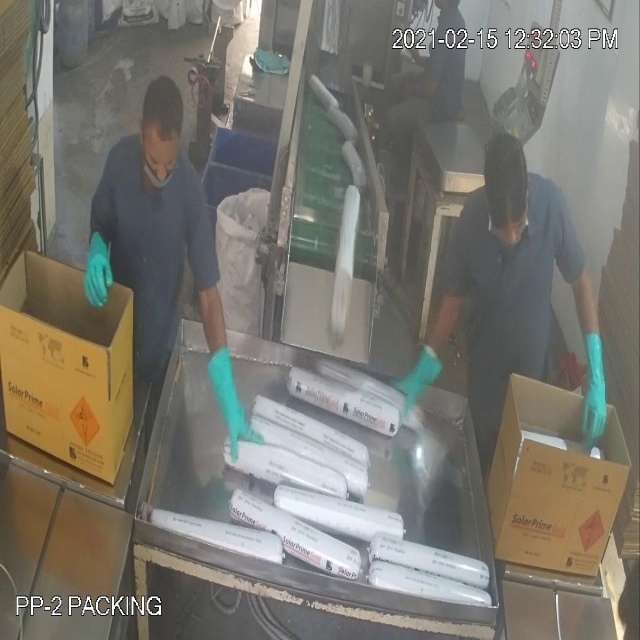Guantes: (197, 306, 268, 477), (74, 199, 121, 331), (578, 295, 614, 463), (383, 348, 449, 430)
